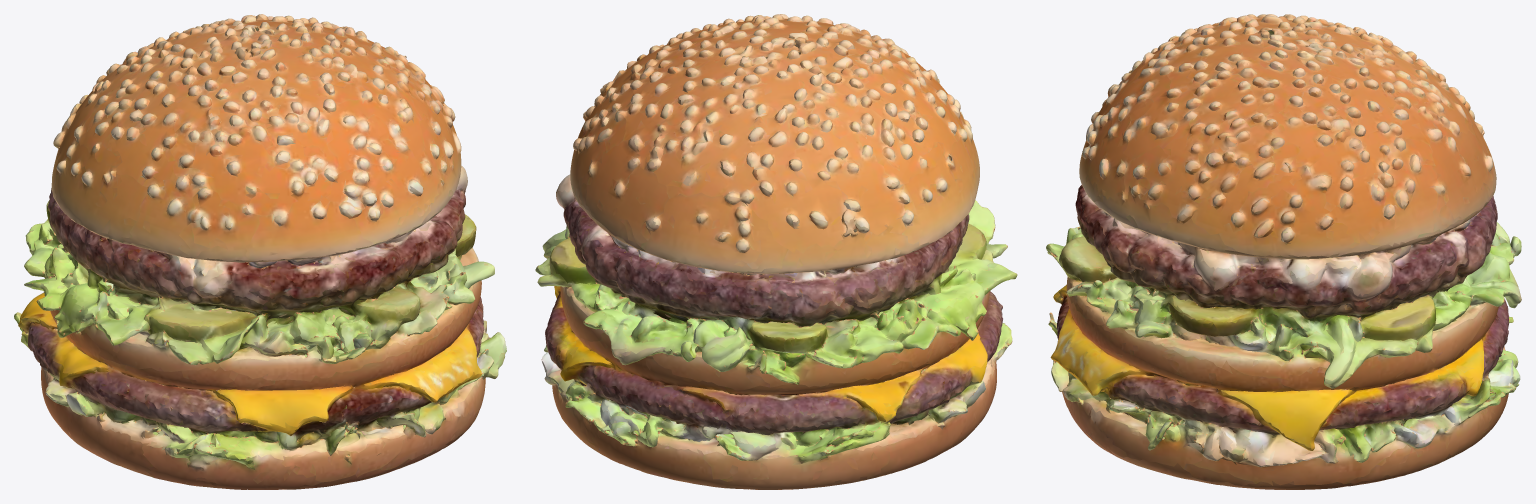
File: burger-0.glb
3 views of the same model, side by side, from view 1: azimuth 30°, elevation 25°; view 2: azimuth 150°, elevation 25°; view 3: azimuth 270°, elevation 25° (orthographic).
Visible parts, largest first — view 1: geometry_0; view 2: geometry_0; view 3: geometry_0.
Part boxes in pixels (x1,y1,x2,y2): geometry_0: [14, 14, 506, 489]; geometry_0: [535, 14, 1017, 489]; geometry_0: [1046, 14, 1521, 489].
Size of the model in its own units: 0.1504 by 0.125 by 0.1501.
1 material, 1 textured.
